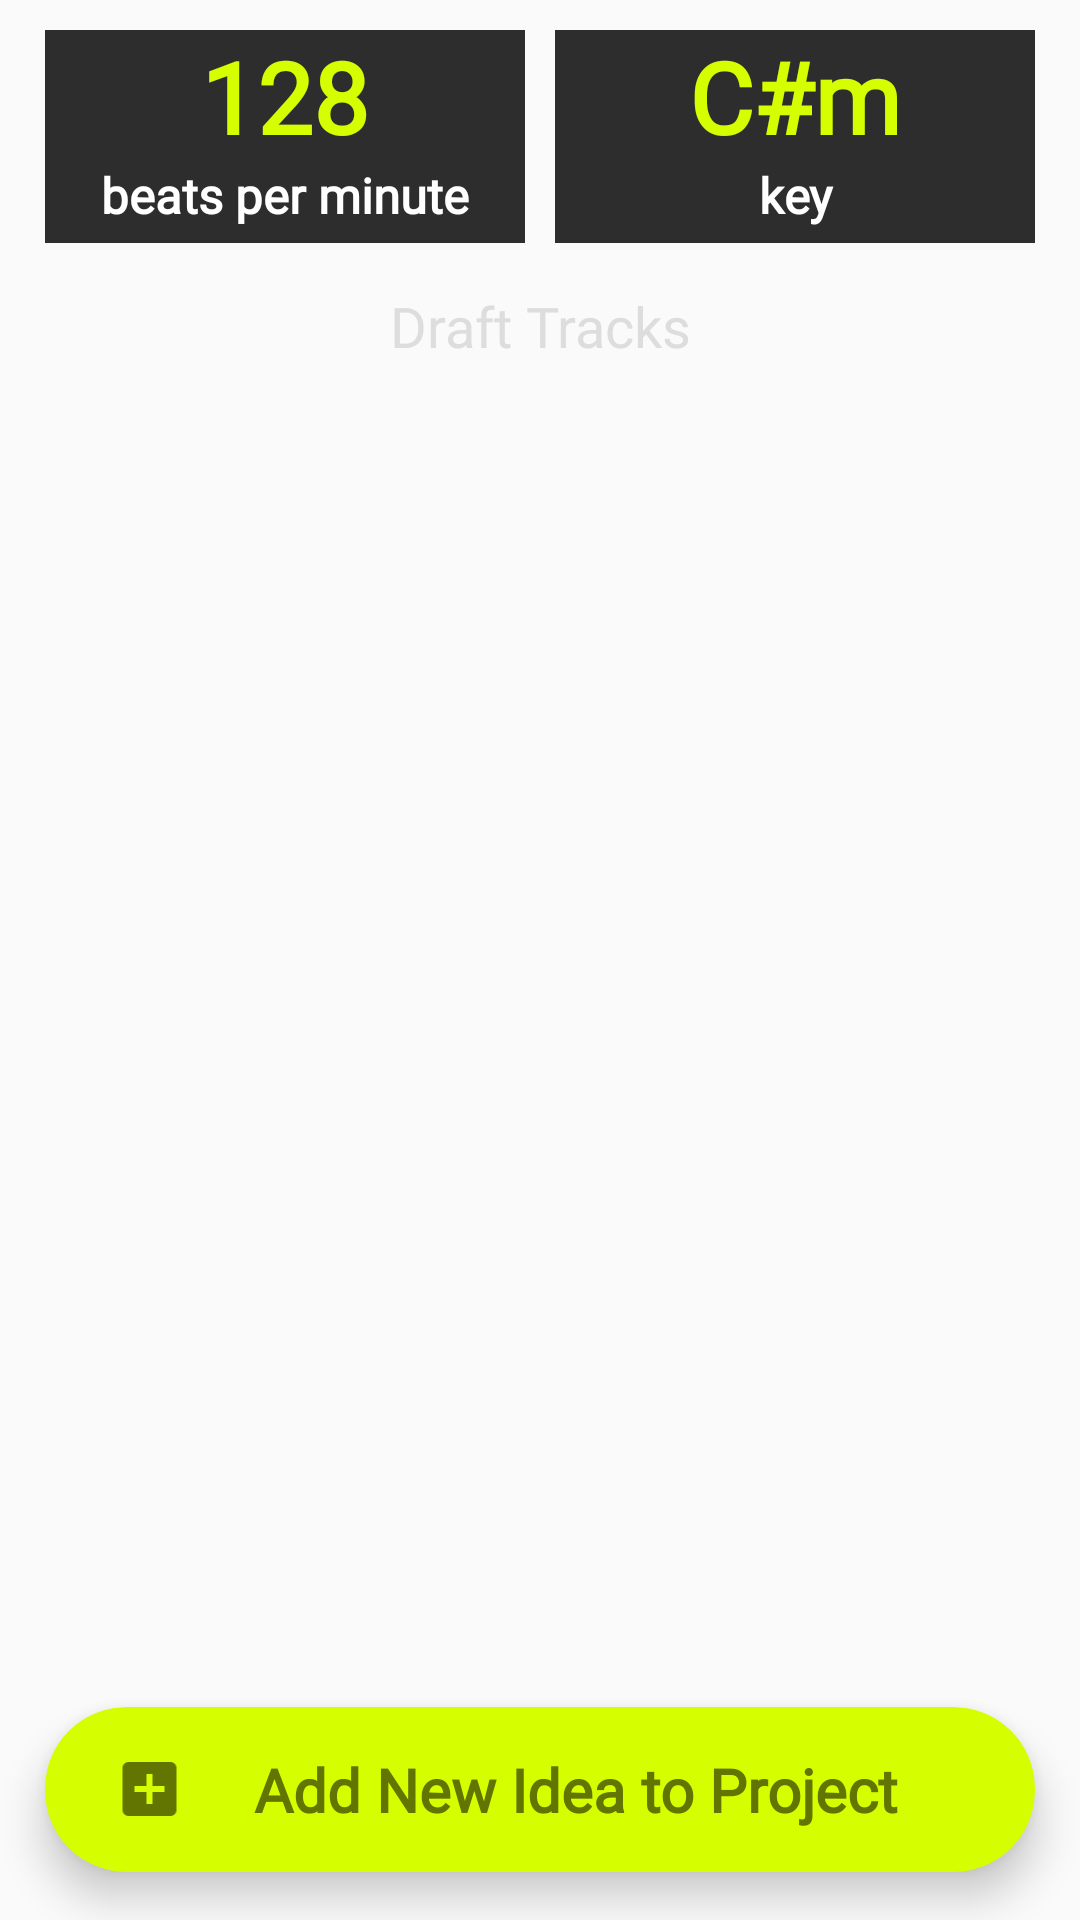

Where to tap for icons on this 1080w x 1920h app screen, as point (x, y):
add box: point (149, 1789)
